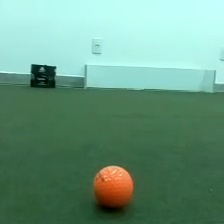ball: (89, 162, 137, 212)
goal: (81, 61, 218, 95)
robot: (28, 61, 58, 90)
